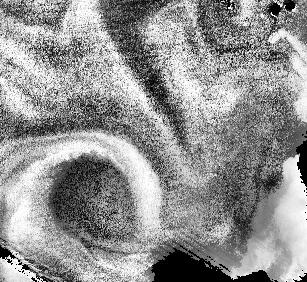AE: (19, 128, 167, 261)
